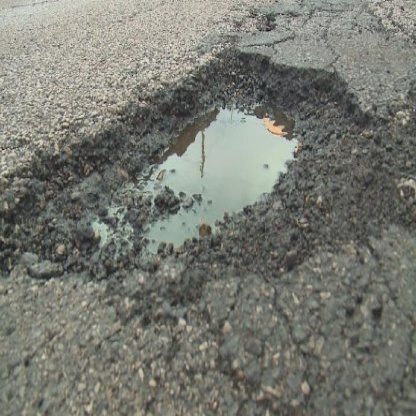pothole: (1, 34, 412, 319)
